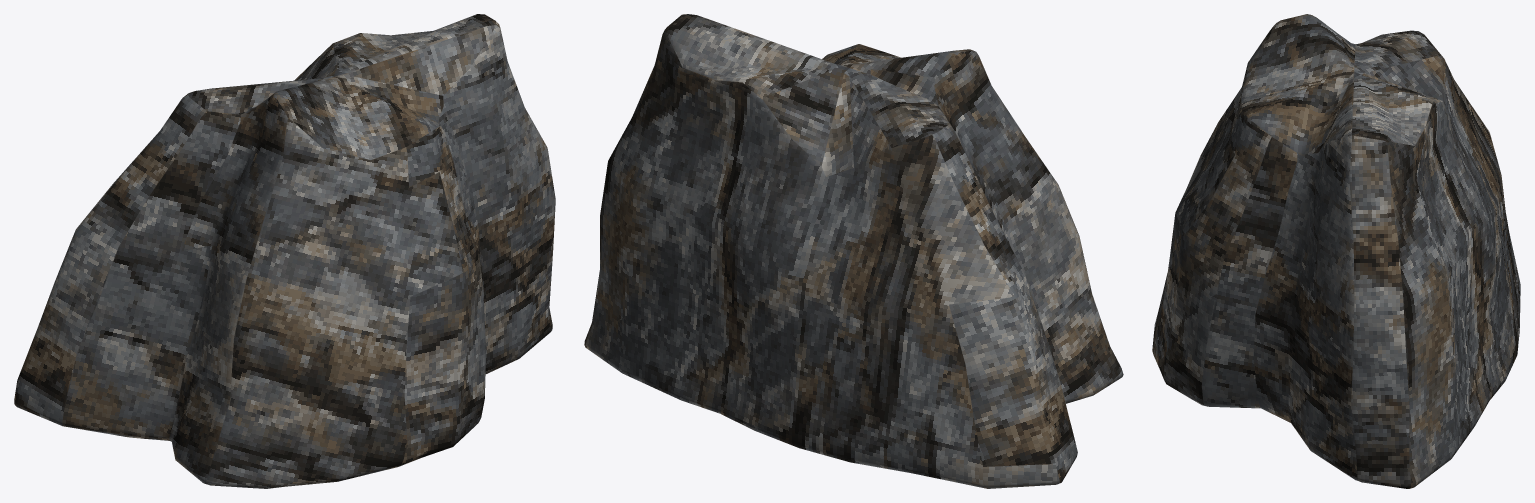
The model's file is slate_b.glb.
3 views of the same model, side by side, from view 1: azimuth 30°, elevation 25°; view 2: azimuth 150°, elevation 25°; view 3: azimuth 270°, elevation 25° (orthographic). The views are drawn at different scales.
Visible parts, largest first — view 1: SlateErosion.001; view 2: SlateErosion.001; view 3: SlateErosion.001.
Part boxes in pixels (x1,y1,x2,y2): SlateErosion.001: (14, 14, 555, 488); SlateErosion.001: (584, 14, 1123, 488); SlateErosion.001: (1152, 14, 1520, 488).
Bounding box in the file's own units: 2.77 × 1.77 × 1.81.
1 material, 1 textured.
